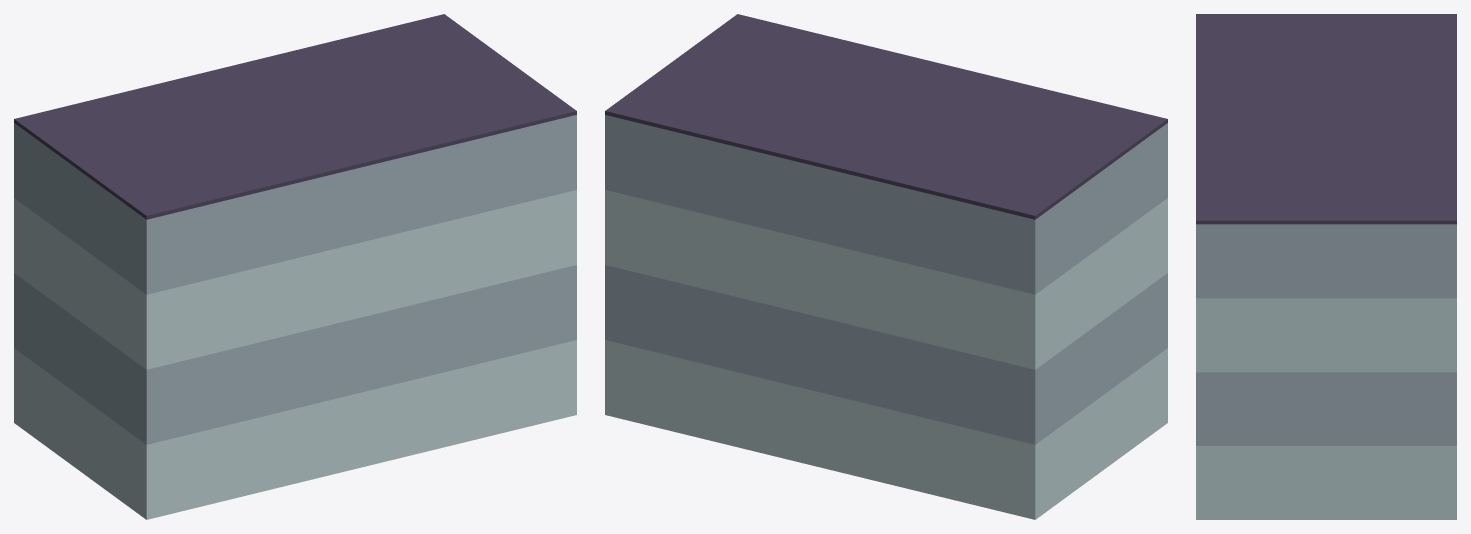
The model's file is Lv3Ground3.fbx.
The picture shows the model from 3 angles, left to right: view 1: azimuth 30°, elevation 25°; view 2: azimuth 150°, elevation 25°; view 3: azimuth 270°, elevation 25°; orthographic projection.
Parts seen in each view (by area): view 1: Lv3Floor6; view 2: Lv3Floor6; view 3: Lv3Floor6.
Part boxes in pixels (x1=…): Lv3Floor6: x1=14, y1=14, x2=576, y2=519; Lv3Floor6: x1=605, y1=14, x2=1167, y2=519; Lv3Floor6: x1=1196, y1=14, x2=1456, y2=519.
Bounding box in the file's own units: 6000 × 4051 × 3200.
